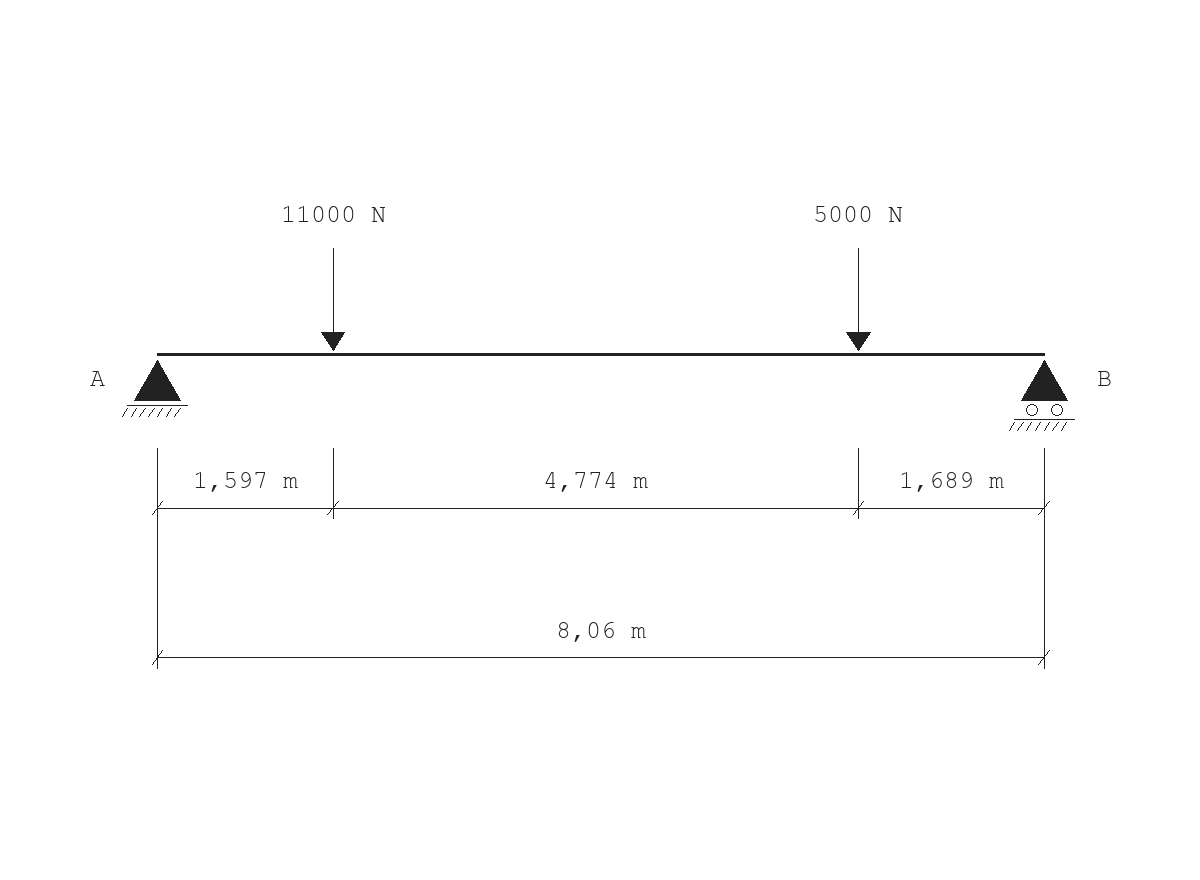pin_support: (122, 360, 188, 417)
point_load: (846, 248, 871, 351), (321, 248, 345, 351)
roller_support: (1009, 360, 1075, 431)
